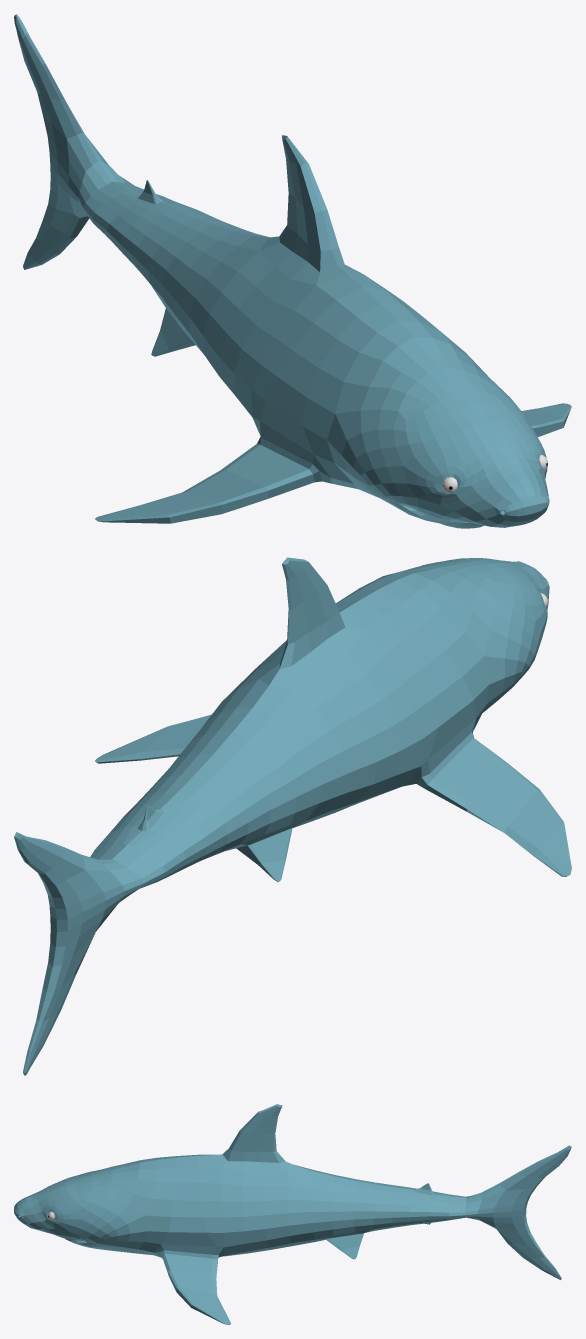
Rendered from sharkTex.fbx.
The picture shows the model from 3 angles, top to bottom: view 1: azimuth 30°, elevation 25°; view 2: azimuth 150°, elevation 25°; view 3: azimuth 270°, elevation 25°; orthographic projection. The views are drawn at different scales.
Visible parts, largest first — view 1: shark; view 2: shark; view 3: shark.
Part boxes in pixels (left/top/right/bottom): shark: left=14, top=14, right=571, bottom=528; shark: left=14, top=557, right=571, bottom=1075; shark: left=14, top=1104, right=571, bottom=1324.
Bounding box in the file's own units: 434 × 286 × 821.
